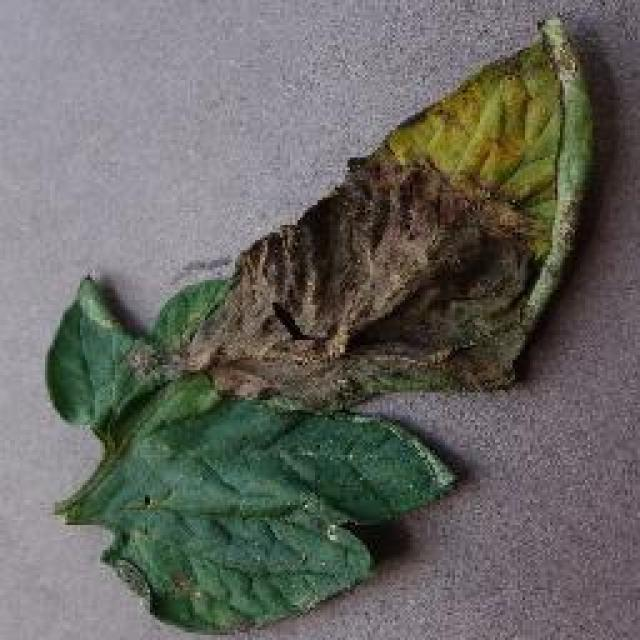Tomato late blight leaf: (43, 21, 595, 634)
